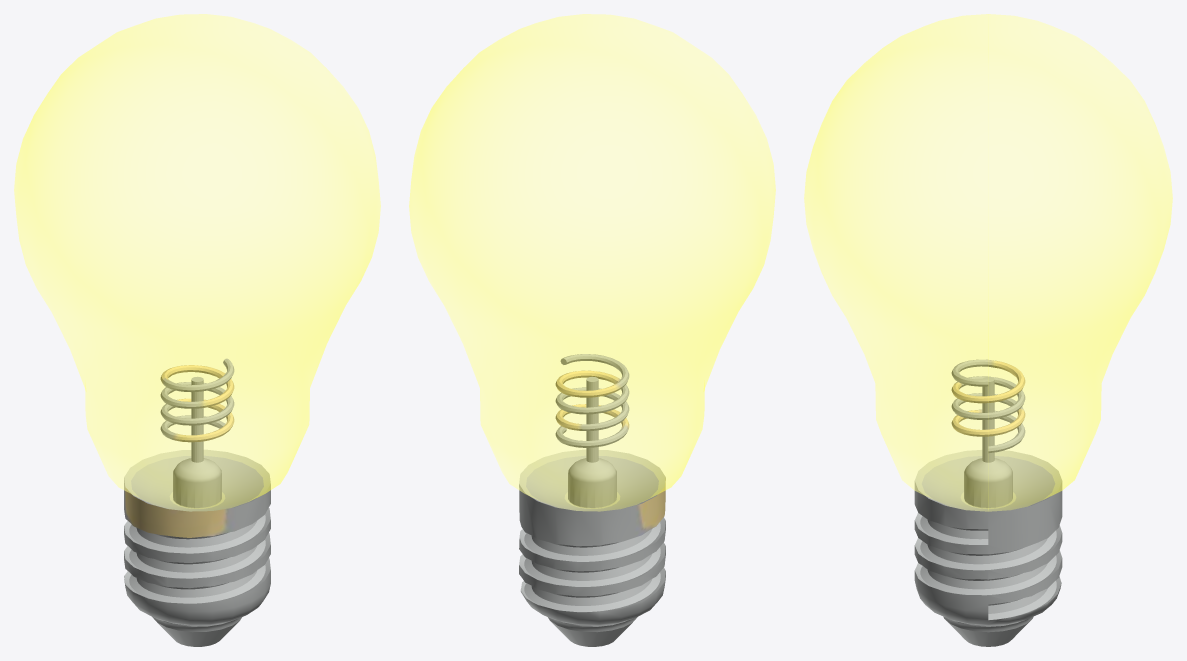
Rendered from lightbulb.glb.
3 renders of one model, left to right at view 1: azimuth 30°, elevation 25°; view 2: azimuth 150°, elevation 25°; view 3: azimuth 270°, elevation 25°, orthographic.
Visible parts, largest first — view 1: Bulb, Base; view 2: Bulb, Base; view 3: Bulb, Base.
Boxes of the visible parts, x1,y1,x2,y2 form: Bulb: [14, 14, 380, 511]; Base: [124, 358, 270, 646]; Bulb: [409, 14, 775, 511]; Base: [519, 354, 665, 646]; Bulb: [804, 14, 1172, 511]; Base: [914, 359, 1062, 646].
Bounding box in the file's own units: 0.02 × 0.0362 × 0.02.
Materials: 2 (1 with a texture image).
